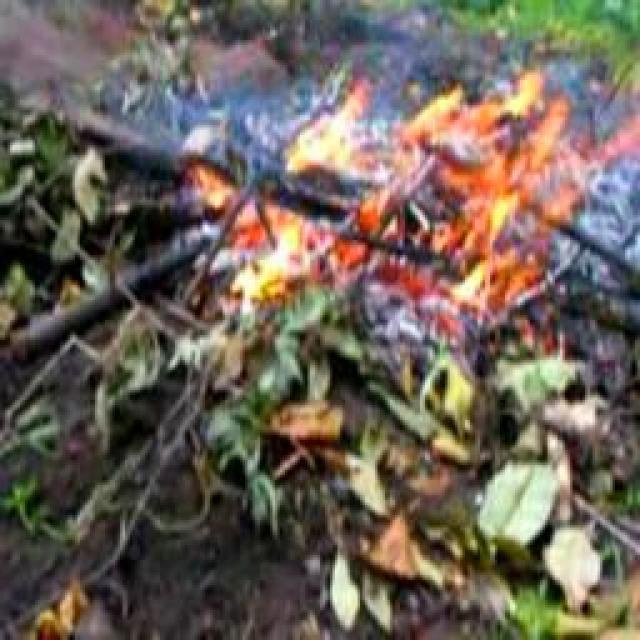Fire: (226, 71, 583, 283)
